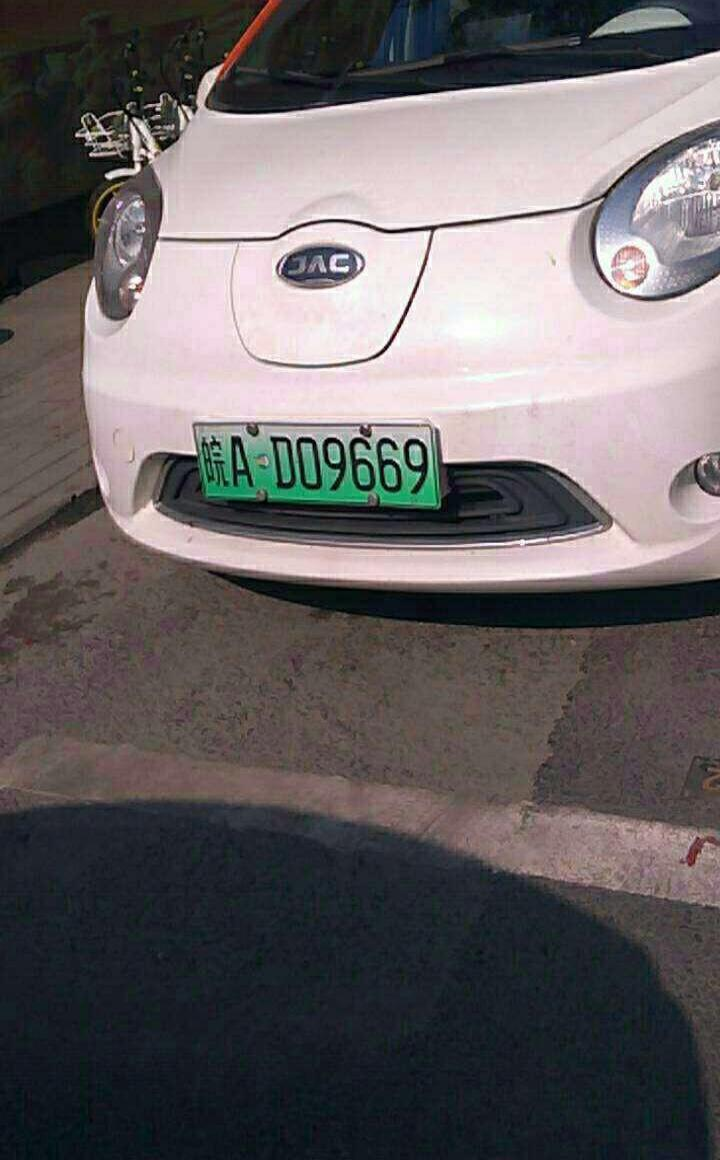car_id: (188, 422, 434, 503)
